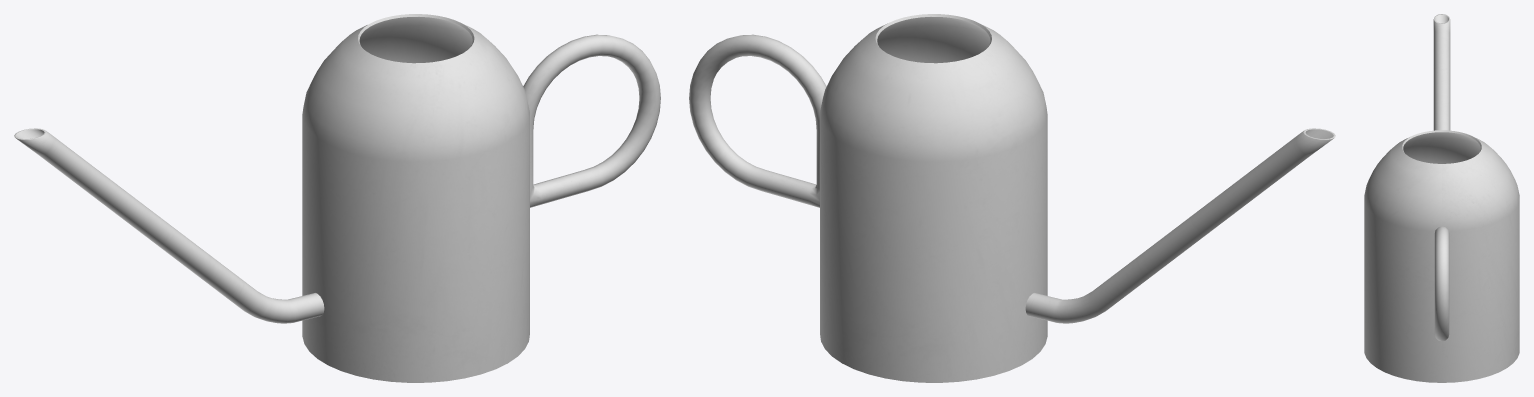
File: WateringCan6.FBX
3 renders of one model, left to right at view 1: azimuth 30°, elevation 25°; view 2: azimuth 150°, elevation 25°; view 3: azimuth 270°, elevation 25°, orthographic. The views are drawn at different scales.
Visible parts, largest first — view 1: WateringCan6; view 2: WateringCan6; view 3: WateringCan6.
Boxes of the visible parts, left/top/right/bottom form: WateringCan6: left=14, top=14, right=660, bottom=382; WateringCan6: left=689, top=14, right=1335, bottom=382; WateringCan6: left=1364, top=14, right=1519, bottom=382.
Size of the model in its own units: 0.324 by 0.1424 by 0.0989.
